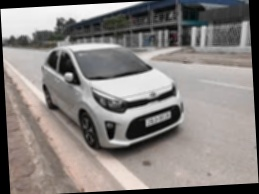Bien-so: (141, 115, 168, 131)
